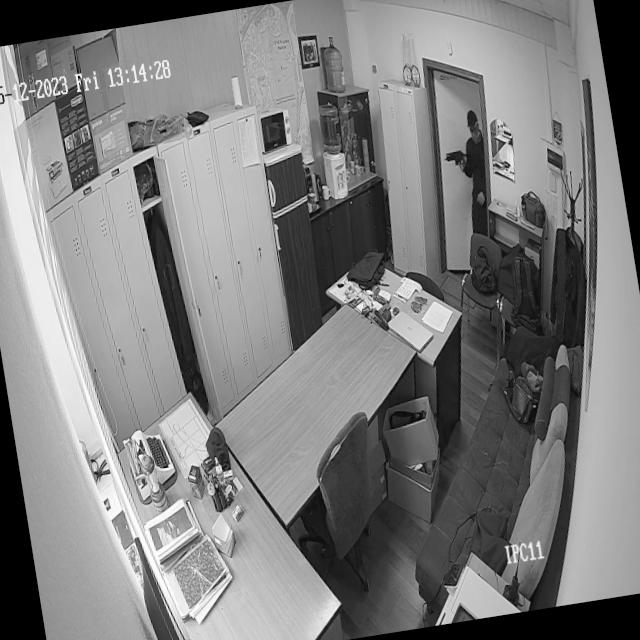gun: (442, 148, 468, 171)
person with a gun: (454, 108, 494, 230)
